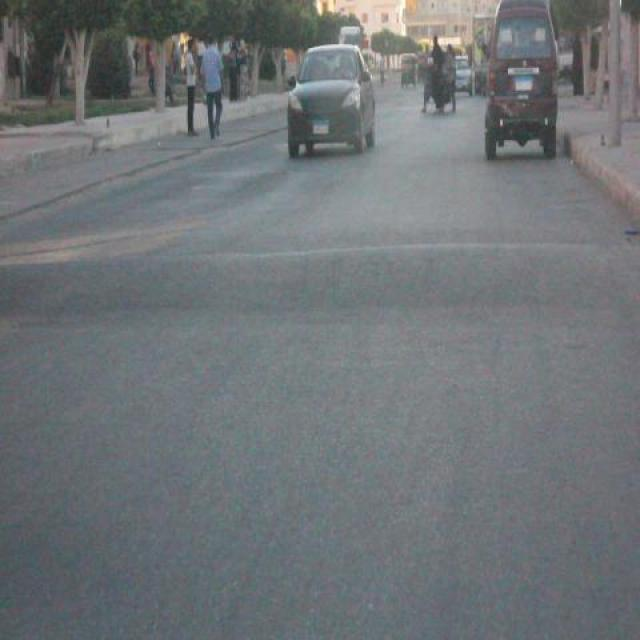Unmarked Bump: (0, 238, 640, 324)
